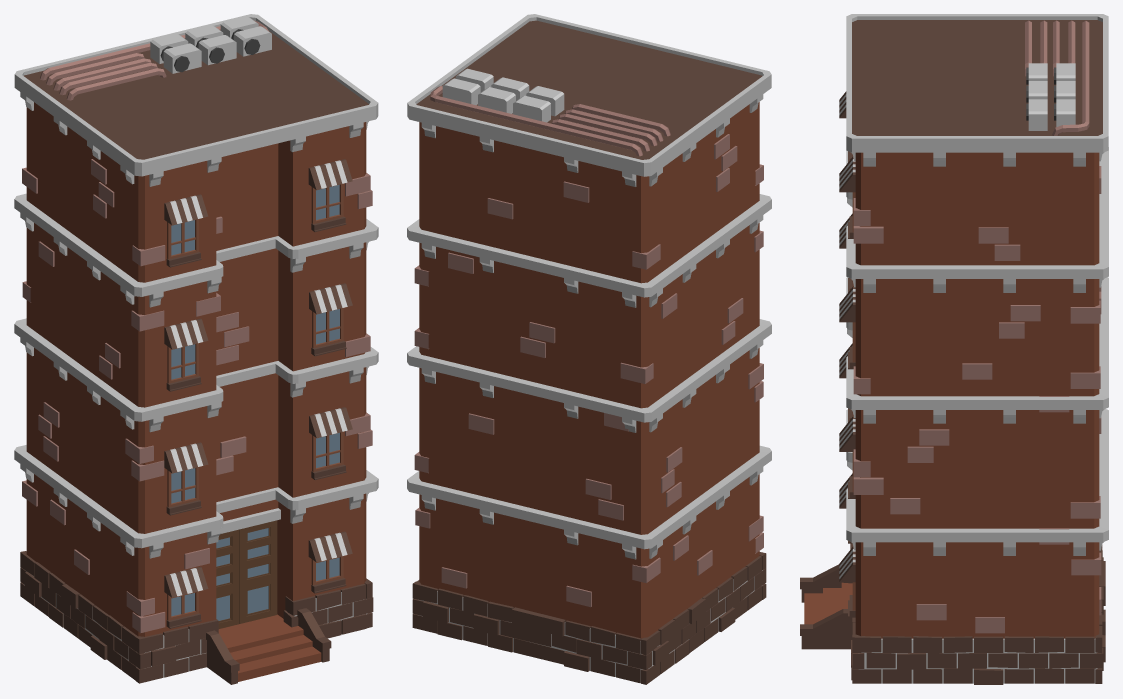
Rendered from 4Story.glb.
3 views of the same model, side by side, from view 1: azimuth 30°, elevation 25°; view 2: azimuth 150°, elevation 25°; view 3: azimuth 270°, elevation 25° (orthographic). The views are drawn at different scales.
Visible parts, largest first — view 1: 4Story_Center; view 2: 4Story_Center; view 3: 4Story_Center.
Part boxes in pixels (bbox=[...]): 4Story_Center: bbox=[14, 14, 378, 684]; 4Story_Center: bbox=[407, 14, 771, 684]; 4Story_Center: bbox=[800, 14, 1108, 684].
Size of the model in its own units: 2.42 by 5.09 by 2.53.
1 material, 1 textured.
